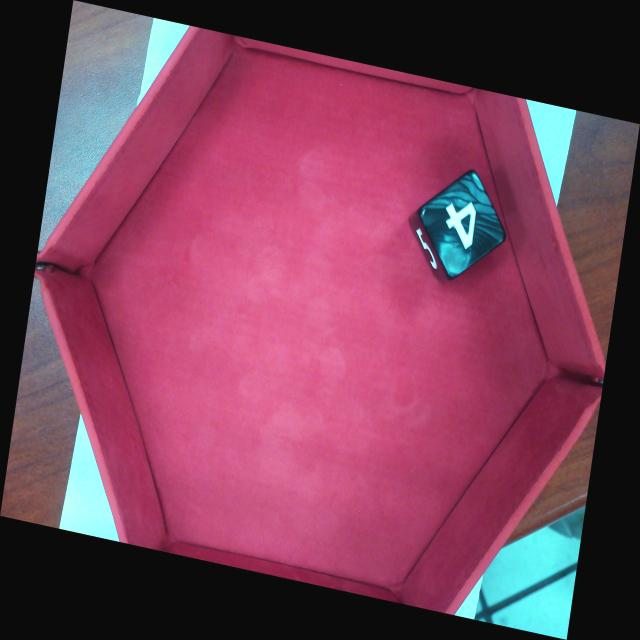dice: (413, 164, 512, 286)
